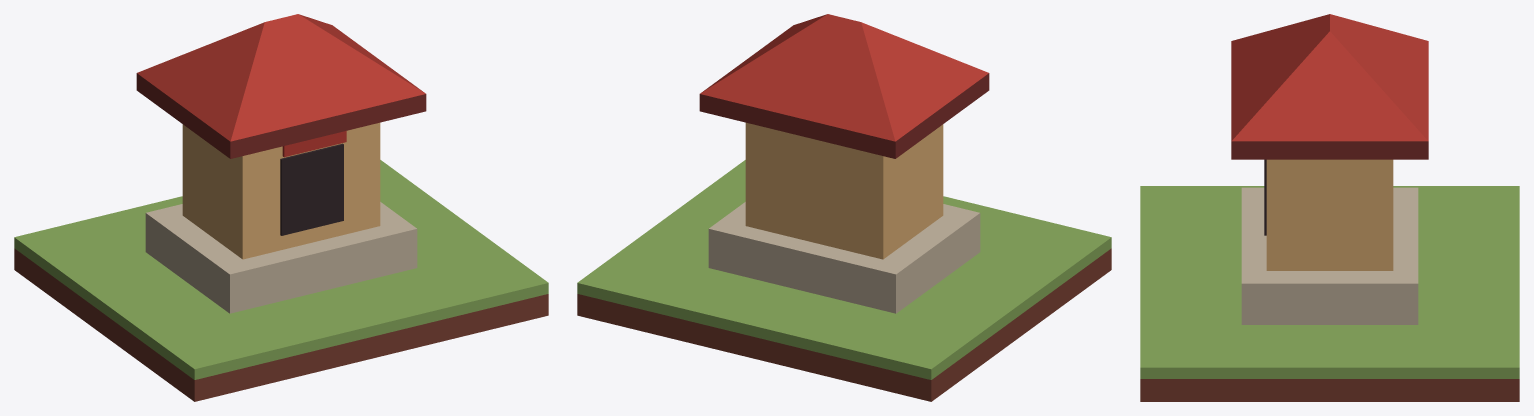
Rendered from shrine.glb.
The picture shows the model from 3 angles, left to right: view 1: azimuth 30°, elevation 25°; view 2: azimuth 150°, elevation 25°; view 3: azimuth 270°, elevation 25°; orthographic projection. The views are drawn at different scales.
Visible parts, largest first — view 1: shrine; view 2: shrine; view 3: shrine.
Boxes of the visible parts, left/top/right/bottom form: shrine: left=14, top=14, right=548, bottom=401; shrine: left=577, top=14, right=1111, bottom=401; shrine: left=1140, top=14, right=1519, bottom=401.
Bounding box in the file's own units: 1.7 × 1.26 × 1.5.
